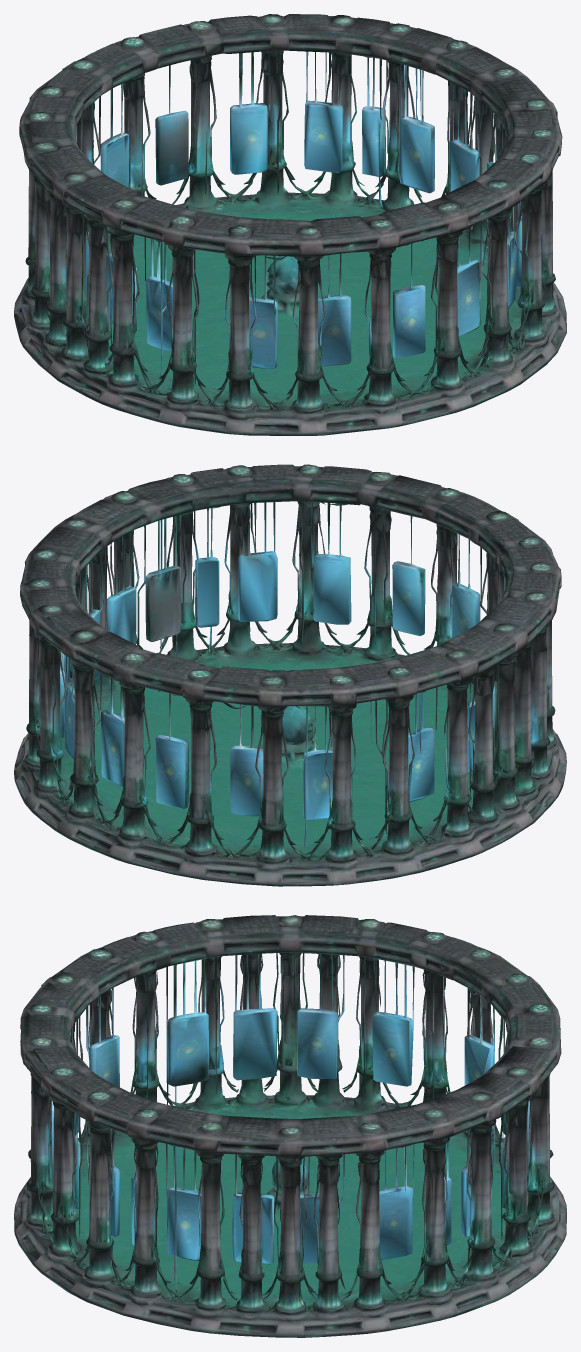
Rendered from pillars.glb.
The picture shows the model from 3 angles, top to bottom: view 1: azimuth 30°, elevation 25°; view 2: azimuth 150°, elevation 25°; view 3: azimuth 270°, elevation 25°; orthographic projection.
Parts seen in each view (by area): view 1: node_0; view 2: node_0; view 3: node_0.
Boxes of the visible parts, left/top/right/bottom form: node_0: left=14, top=14, right=566, bottom=435; node_0: left=14, top=464, right=566, bottom=886; node_0: left=14, top=915, right=566, bottom=1337.
Bounding box in the file's own units: 1.11 × 0.4337 × 1.11.
1 material, 1 textured.
